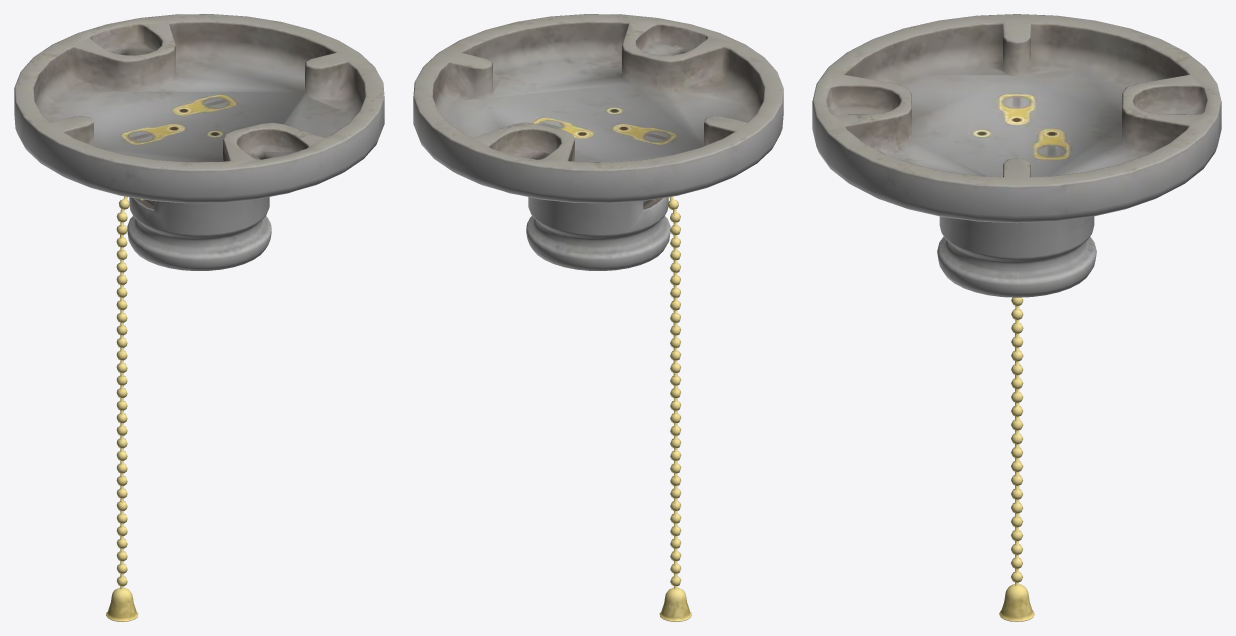
The model's file is pull_chain_light_socket.5ab5f7e8.glb.
The picture shows the model from 3 angles, left to right: view 1: azimuth 30°, elevation 25°; view 2: azimuth 150°, elevation 25°; view 3: azimuth 270°, elevation 25°; orthographic projection. The views are drawn at different scales.
Parts seen in each view (by area): view 1: pull_chain_light_socket, pull_chain_light_socket_chain; view 2: pull_chain_light_socket, pull_chain_light_socket_chain; view 3: pull_chain_light_socket, pull_chain_light_socket_chain.
Part boxes in pixels (x1,y1,x2,y2): pull_chain_light_socket: [14, 14, 384, 270]; pull_chain_light_socket_chain: [106, 196, 138, 621]; pull_chain_light_socket: [413, 14, 783, 270]; pull_chain_light_socket_chain: [659, 196, 691, 621]; pull_chain_light_socket: [812, 14, 1221, 297]; pull_chain_light_socket_chain: [999, 297, 1034, 621].
Size of the model in its own units: 0.6666 by 1 by 0.6666.
Materials: 1 (1 with a texture image).
